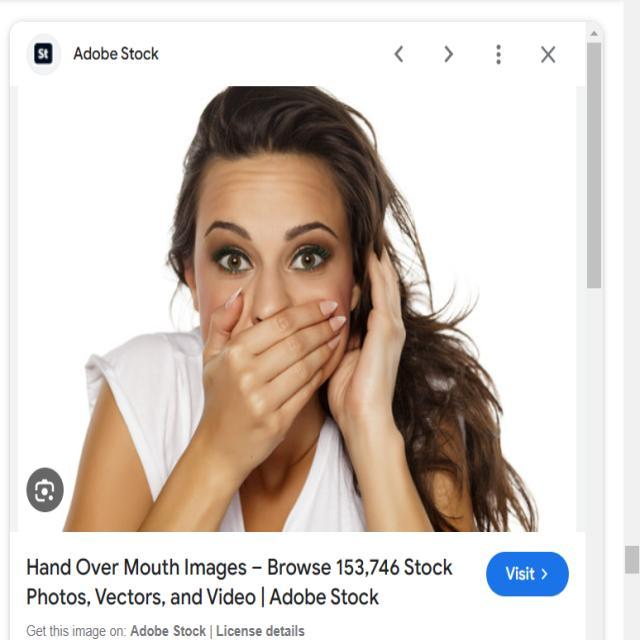face_with_hand: (182, 155, 367, 422)
